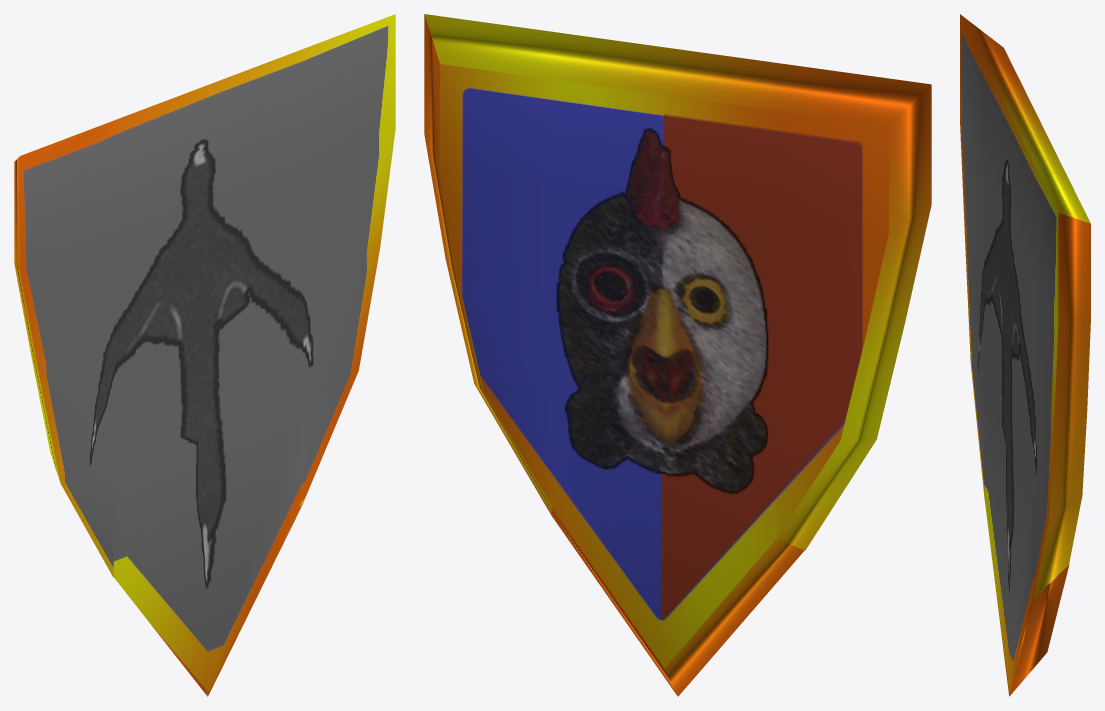
Rendered from escut.fbx.
3 views of the same model, side by side, from view 1: azimuth 30°, elevation 25°; view 2: azimuth 150°, elevation 25°; view 3: azimuth 270°, elevation 25° (orthographic). The views are drawn at different scales.
Visible parts, largest first — view 1: Cube; view 2: Cube; view 3: Cube.
Part boxes in pixels (box(x1,y1,x2,y2)): Cube: box(14, 14, 395, 696); Cube: box(424, 14, 931, 696); Cube: box(960, 14, 1090, 696).
Size of the model in its own units: 1.96 by 2.68 by 0.5447.
1 material, 1 textured.
